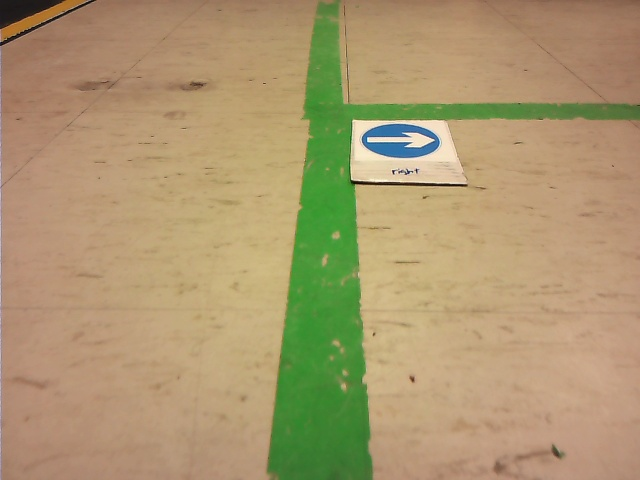TURN RIGHT: (363, 124, 440, 157)
